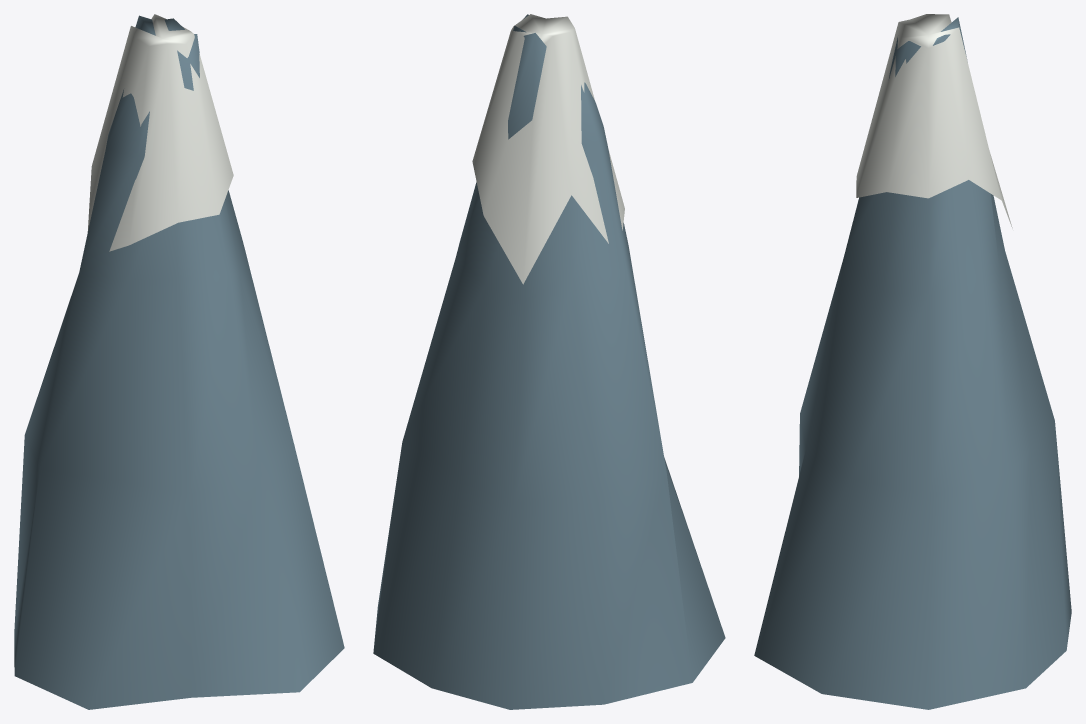
The model's file is snowMountainPeak.glb.
3 renders of one model, left to right at view 1: azimuth 30°, elevation 25°; view 2: azimuth 150°, elevation 25°; view 3: azimuth 270°, elevation 25°, orthographic. The views are drawn at different scales.
Parts seen in each view (by area): view 1: snow-mountain-peak-rock, snow-mountain-peak-snow-cap; view 2: snow-mountain-peak-rock, snow-mountain-peak-snow-cap; view 3: snow-mountain-peak-rock, snow-mountain-peak-snow-cap.
Boxes of the visible parts, x1,y1,x2,y2 form: snow-mountain-peak-rock: (14,15,344,709); snow-mountain-peak-snow-cap: (87,14,233,251); snow-mountain-peak-rock: (373,14,725,709); snow-mountain-peak-snow-cap: (472,14,624,284); snow-mountain-peak-rock: (754,17,1071,709); snow-mountain-peak-snow-cap: (856,14,1012,228).
Bounding box in the file's own units: 35.44 × 67.41 × 31.76.
